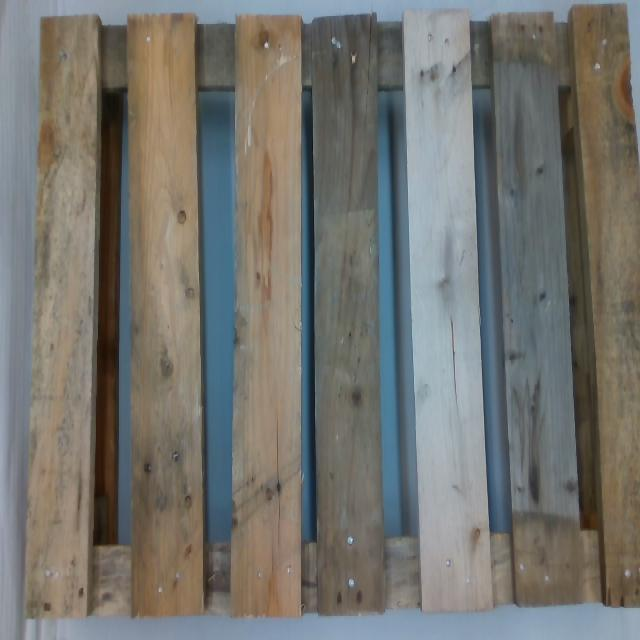pallet: (21, 2, 640, 623)
